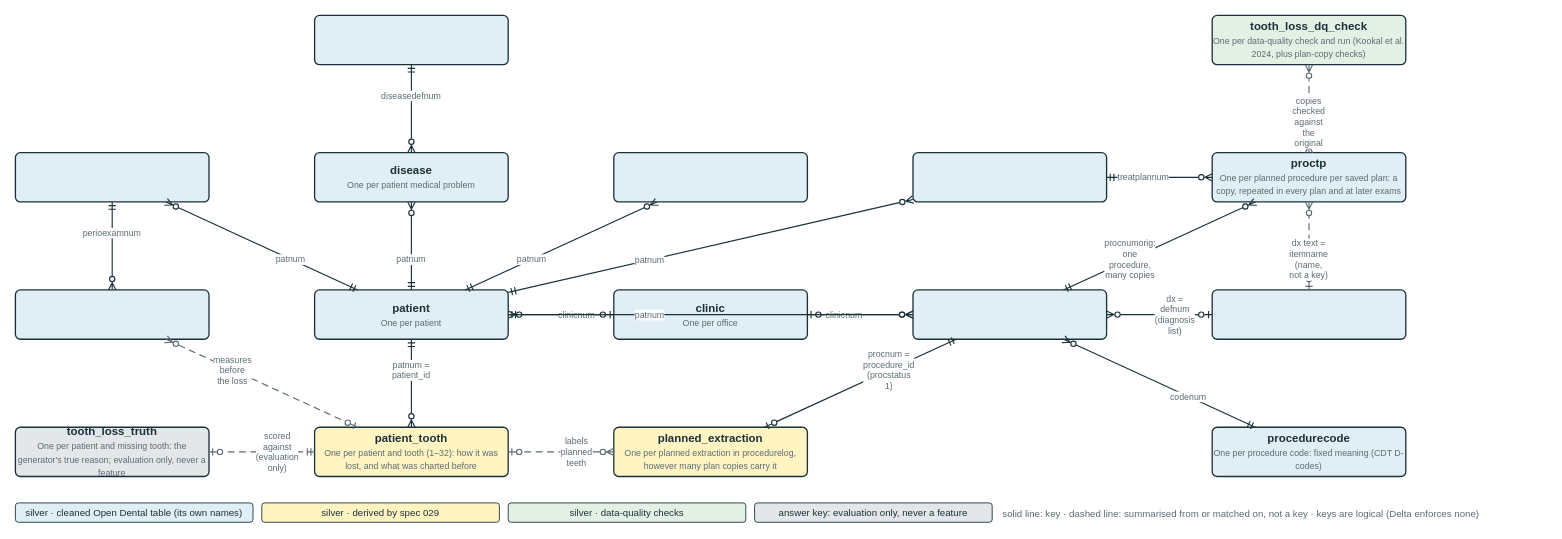
Some shapes in this 1562 by 539 pixel diagram are drawn without their labels. The centre of each missing label's shape, as x and y in pixels:
definition One per item in the practice's own lists (diagnoses, prognoses, ...): (1308,314)
diseasedef One per problem in the list: (411,39)
perioexam One per periodontal exam: (111,177)
periomeasure One per exam, tooth and kind of measure (six sites as columns): (111,314)
procedurelog One per procedure, done or planned: the one record of each: (1009,314)
toothinitial One per tooth state at the chart's start: (710,177)
treatplan One per saved treatment plan; several can share a date (alternatives): (1009,177)
